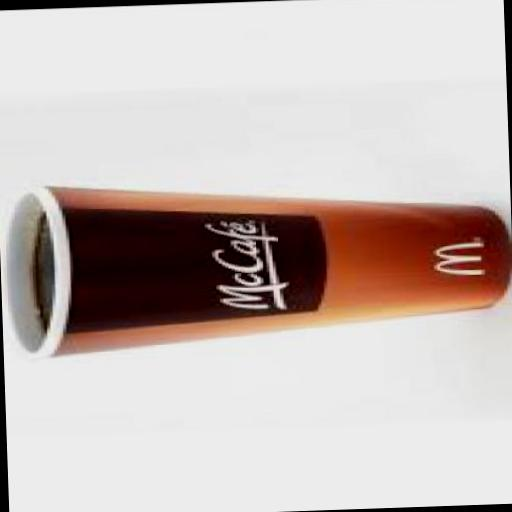paper: (0, 170, 512, 358)
